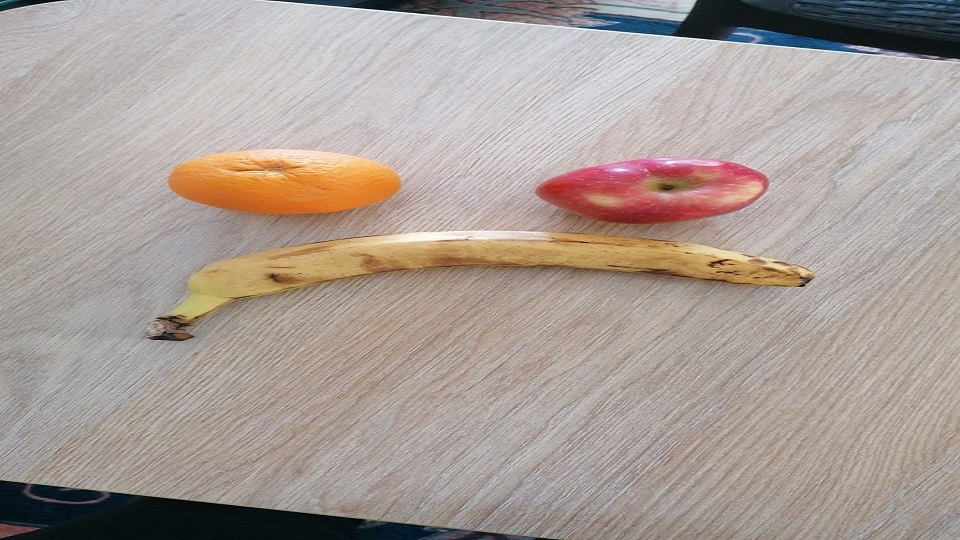elma: (533, 157, 771, 225)
muz: (148, 229, 816, 342)
portakal: (167, 147, 404, 216)
